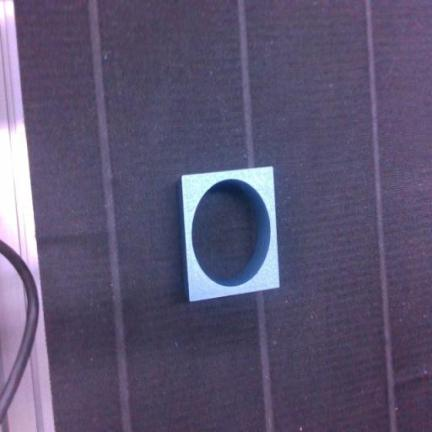square: (179, 168, 279, 301)
